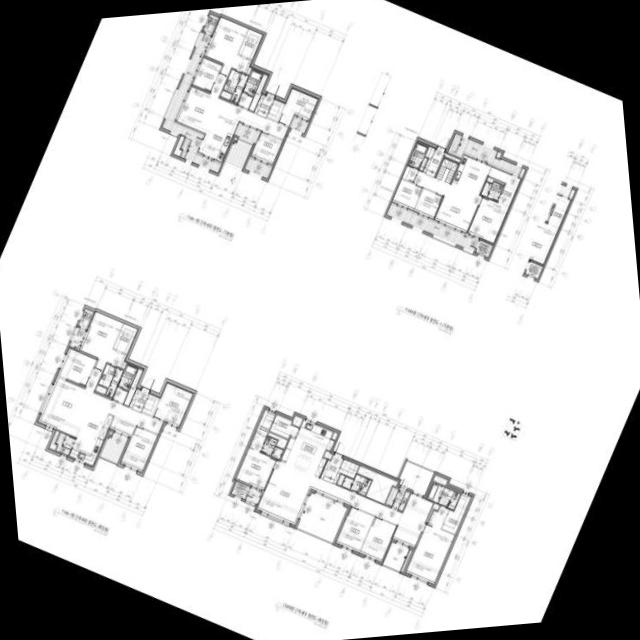background: (0, 0, 640, 640)
space_balconi: (161, 32, 220, 172), (386, 203, 478, 251), (448, 133, 524, 176), (296, 492, 346, 542), (398, 461, 433, 494), (99, 433, 126, 463), (224, 139, 251, 168), (382, 542, 408, 571), (384, 486, 409, 510), (243, 158, 271, 178), (54, 432, 74, 455), (235, 124, 257, 142), (68, 326, 85, 348), (244, 487, 261, 504), (289, 117, 307, 133)
space_bedroom: (405, 505, 453, 583), (203, 16, 250, 76), (78, 311, 125, 370), (235, 432, 275, 489), (467, 196, 508, 243), (152, 382, 192, 426), (335, 506, 373, 552), (120, 426, 157, 471), (359, 516, 395, 561), (277, 87, 317, 126), (57, 348, 95, 386), (250, 131, 282, 164), (191, 57, 220, 91), (391, 179, 422, 209), (413, 188, 441, 218)
space_dressroom: (487, 167, 520, 207), (441, 493, 470, 533), (237, 28, 262, 59), (112, 323, 137, 354), (255, 409, 274, 435)
space_front: (320, 452, 342, 483), (422, 149, 443, 177), (253, 94, 273, 118), (128, 388, 148, 412)
space_kitchen: (280, 419, 333, 476), (68, 406, 112, 465), (197, 112, 237, 161), (450, 155, 490, 194)
space_living_room: (256, 460, 432, 547), (37, 368, 163, 437), (173, 72, 288, 139), (413, 170, 480, 232)
space_other: (356, 465, 396, 503), (248, 74, 267, 111), (123, 368, 142, 405), (269, 414, 298, 438), (435, 157, 457, 183), (108, 415, 135, 436), (266, 98, 284, 121), (338, 459, 358, 478), (141, 394, 158, 415), (267, 432, 286, 448), (401, 165, 417, 182), (111, 387, 127, 403), (400, 549, 411, 572), (425, 503, 438, 522), (236, 93, 252, 108), (172, 135, 183, 156), (47, 430, 58, 450), (486, 176, 504, 184), (432, 475, 446, 485), (444, 153, 459, 162), (424, 145, 434, 158), (291, 415, 302, 426), (219, 90, 231, 99), (418, 157, 426, 170), (336, 474, 344, 485), (323, 450, 332, 459), (330, 432, 336, 439), (246, 66, 251, 74), (121, 361, 126, 369), (108, 431, 111, 435), (233, 137, 236, 140)
space_outdoor_room: (230, 480, 249, 499), (202, 13, 218, 34), (77, 308, 93, 328), (474, 240, 492, 257)
space_toilet: (94, 363, 122, 397), (426, 482, 459, 509), (222, 69, 247, 102), (341, 474, 370, 495), (407, 142, 427, 168), (260, 436, 282, 459), (242, 69, 261, 95), (117, 364, 136, 390), (480, 181, 502, 200)
